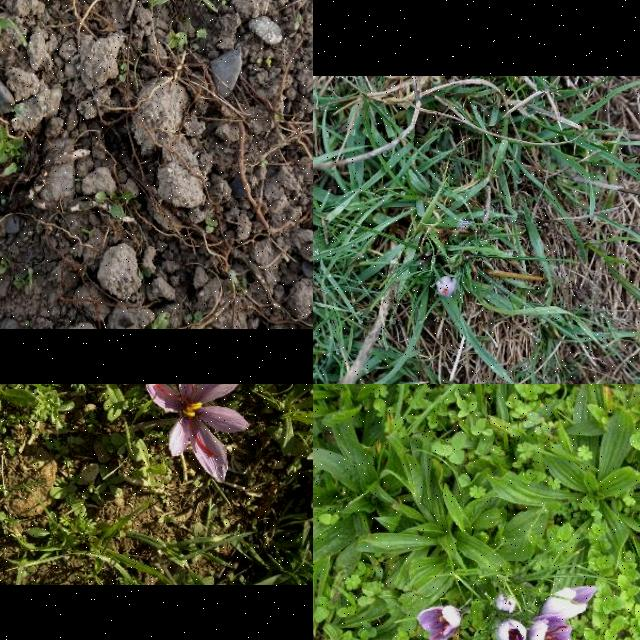flower: (146, 384, 247, 483), (542, 586, 598, 620), (418, 605, 461, 640), (528, 614, 573, 640), (497, 622, 529, 640), (436, 276, 458, 296), (496, 594, 518, 614)
